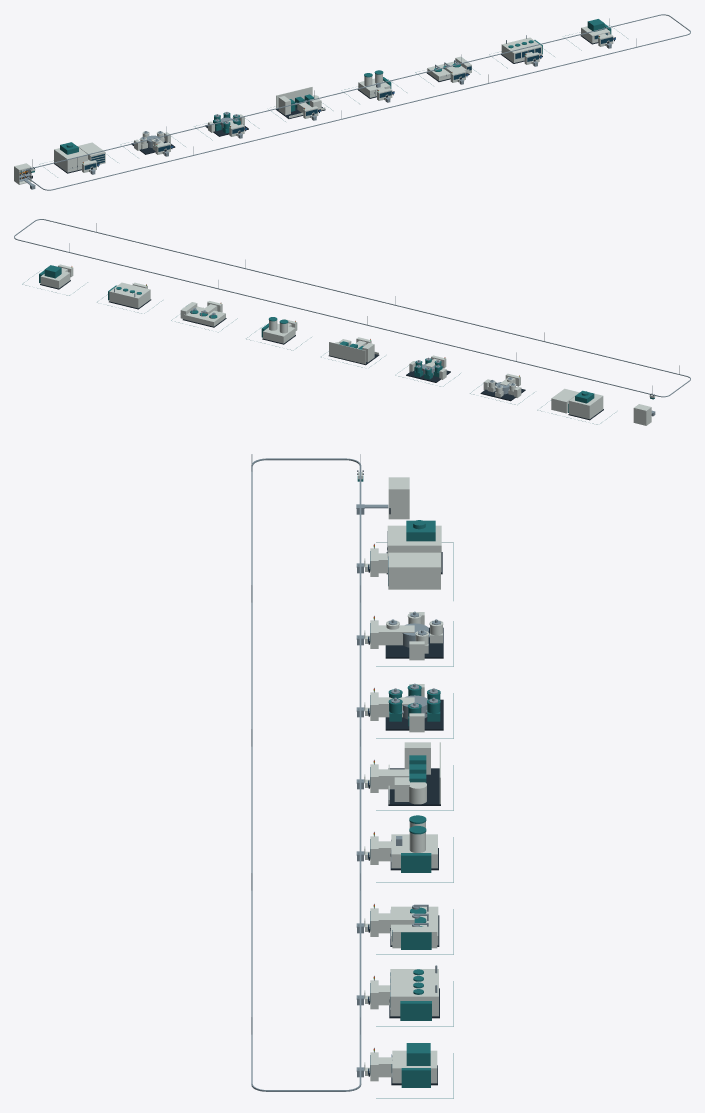
File: FAB2.glb
The picture shows the model from 3 angles, top to bottom: view 1: azimuth 30°, elevation 25°; view 2: azimuth 150°, elevation 25°; view 3: azimuth 270°, elevation 25°; orthographic projection. The views are drawn at different scales.
Visible parts, largest first — view 1: V6_FAB2_RAIL_01__track, V6_FAB2_TOOL_CLEAN__enclosure, V6_FAB2_TOOL_LITHO__enclosure, V6_FAB2_TOOL_IMPLANT__shield_panels, V6_FAB2_TOOL_CMP__enclosure, V6_FAB2_TOOL_DEPO, V6_FAB2_TOOL_LITHO__track_bank, V6_FAB2_TOOL_THERMAL__enclosure; view 2: V6_FAB2_RAIL_01__track, V6_FAB2_TOOL_CLEAN__enclosure, V6_FAB2_TOOL_LITHO__enclosure, V6_FAB2_TOOL_IMPLANT__shield_panels, V6_FAB2_TOOL_CMP__enclosure, V6_FAB2_TOOL_LITHO__track_bank, V6_FAB2_TOOL_DEPO, V6_FAB2_TOOL_THERMAL__enclosure, V6_FAB2_STOCKER_01__frame, V6_FAB2_TOOL_METRO__enclosure; view 3: V6_FAB2_RAIL_01__track, V6_FAB2_TOOL_LITHO__track_bank, V6_FAB2_TOOL_CLEAN__enclosure, V6_FAB2_TOOL_DEPO, V6_FAB2_TOOL_LITHO__enclosure.
Part boxes in pixels (x1=…): V6_FAB2_RAIL_01__track: x1=21, y1=14, x2=690, y2=190; V6_FAB2_TOOL_CLEAN__enclosure: x1=501, y1=37, x2=542, y2=62; V6_FAB2_TOOL_LITHO__enclosure: x1=54, y1=148, x2=87, y2=172; V6_FAB2_TOOL_IMPLANT__shield_panels: x1=276, y1=87, x2=325, y2=118; V6_FAB2_TOOL_CMP__enclosure: x1=427, y1=61, x2=469, y2=80; V6_FAB2_TOOL_DEPO: x1=213, y1=112, x2=240, y2=133; V6_FAB2_TOOL_LITHO__track_bank: x1=77, y1=142, x2=105, y2=164; V6_FAB2_TOOL_THERMAL__enclosure: x1=358, y1=78, x2=390, y2=97; V6_FAB2_RAIL_01__track: x1=14, y1=219, x2=690, y2=397; V6_FAB2_TOOL_CLEAN__enclosure: x1=109, y1=282, x2=150, y2=308; V6_FAB2_TOOL_LITHO__enclosure: x1=569, y1=393, x2=603, y2=419; V6_FAB2_TOOL_IMPLANT__shield_panels: x1=329, y1=342, x2=378, y2=364; V6_FAB2_TOOL_CMP__enclosure: x1=183, y1=306, x2=225, y2=326; V6_FAB2_TOOL_LITHO__track_bank: x1=551, y1=388, x2=579, y2=413; V6_FAB2_TOOL_DEPO: x1=414, y1=357, x2=442, y2=379; V6_FAB2_TOOL_THERMAL__enclosure: x1=263, y1=323, x2=295, y2=343; V6_FAB2_STOCKER_01__frame: x1=633, y1=404, x2=651, y2=425; V6_FAB2_TOOL_METRO__enclosure: x1=40, y1=270, x2=70, y2=288; V6_FAB2_RAIL_01__track: x1=251, y1=458, x2=361, y2=1091; V6_FAB2_TOOL_LITHO__track_bank: x1=388, y1=552, x2=440, y2=589; V6_FAB2_TOOL_CLEAN__enclosure: x1=390, y1=969, x2=438, y2=1016; V6_FAB2_TOOL_DEPO: x1=388, y1=683, x2=440, y2=726; V6_FAB2_TOOL_LITHO__enclosure: x1=387, y1=525, x2=441, y2=572.
Size of the model in its own units: 193 by 8.4 by 26.11.
